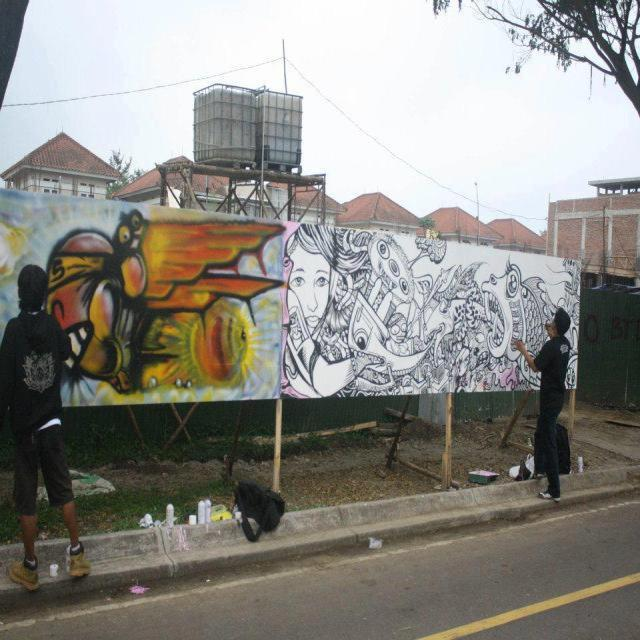-: (284, 226, 578, 397), (38, 209, 286, 402), (0, 211, 31, 286), (586, 312, 638, 354)
